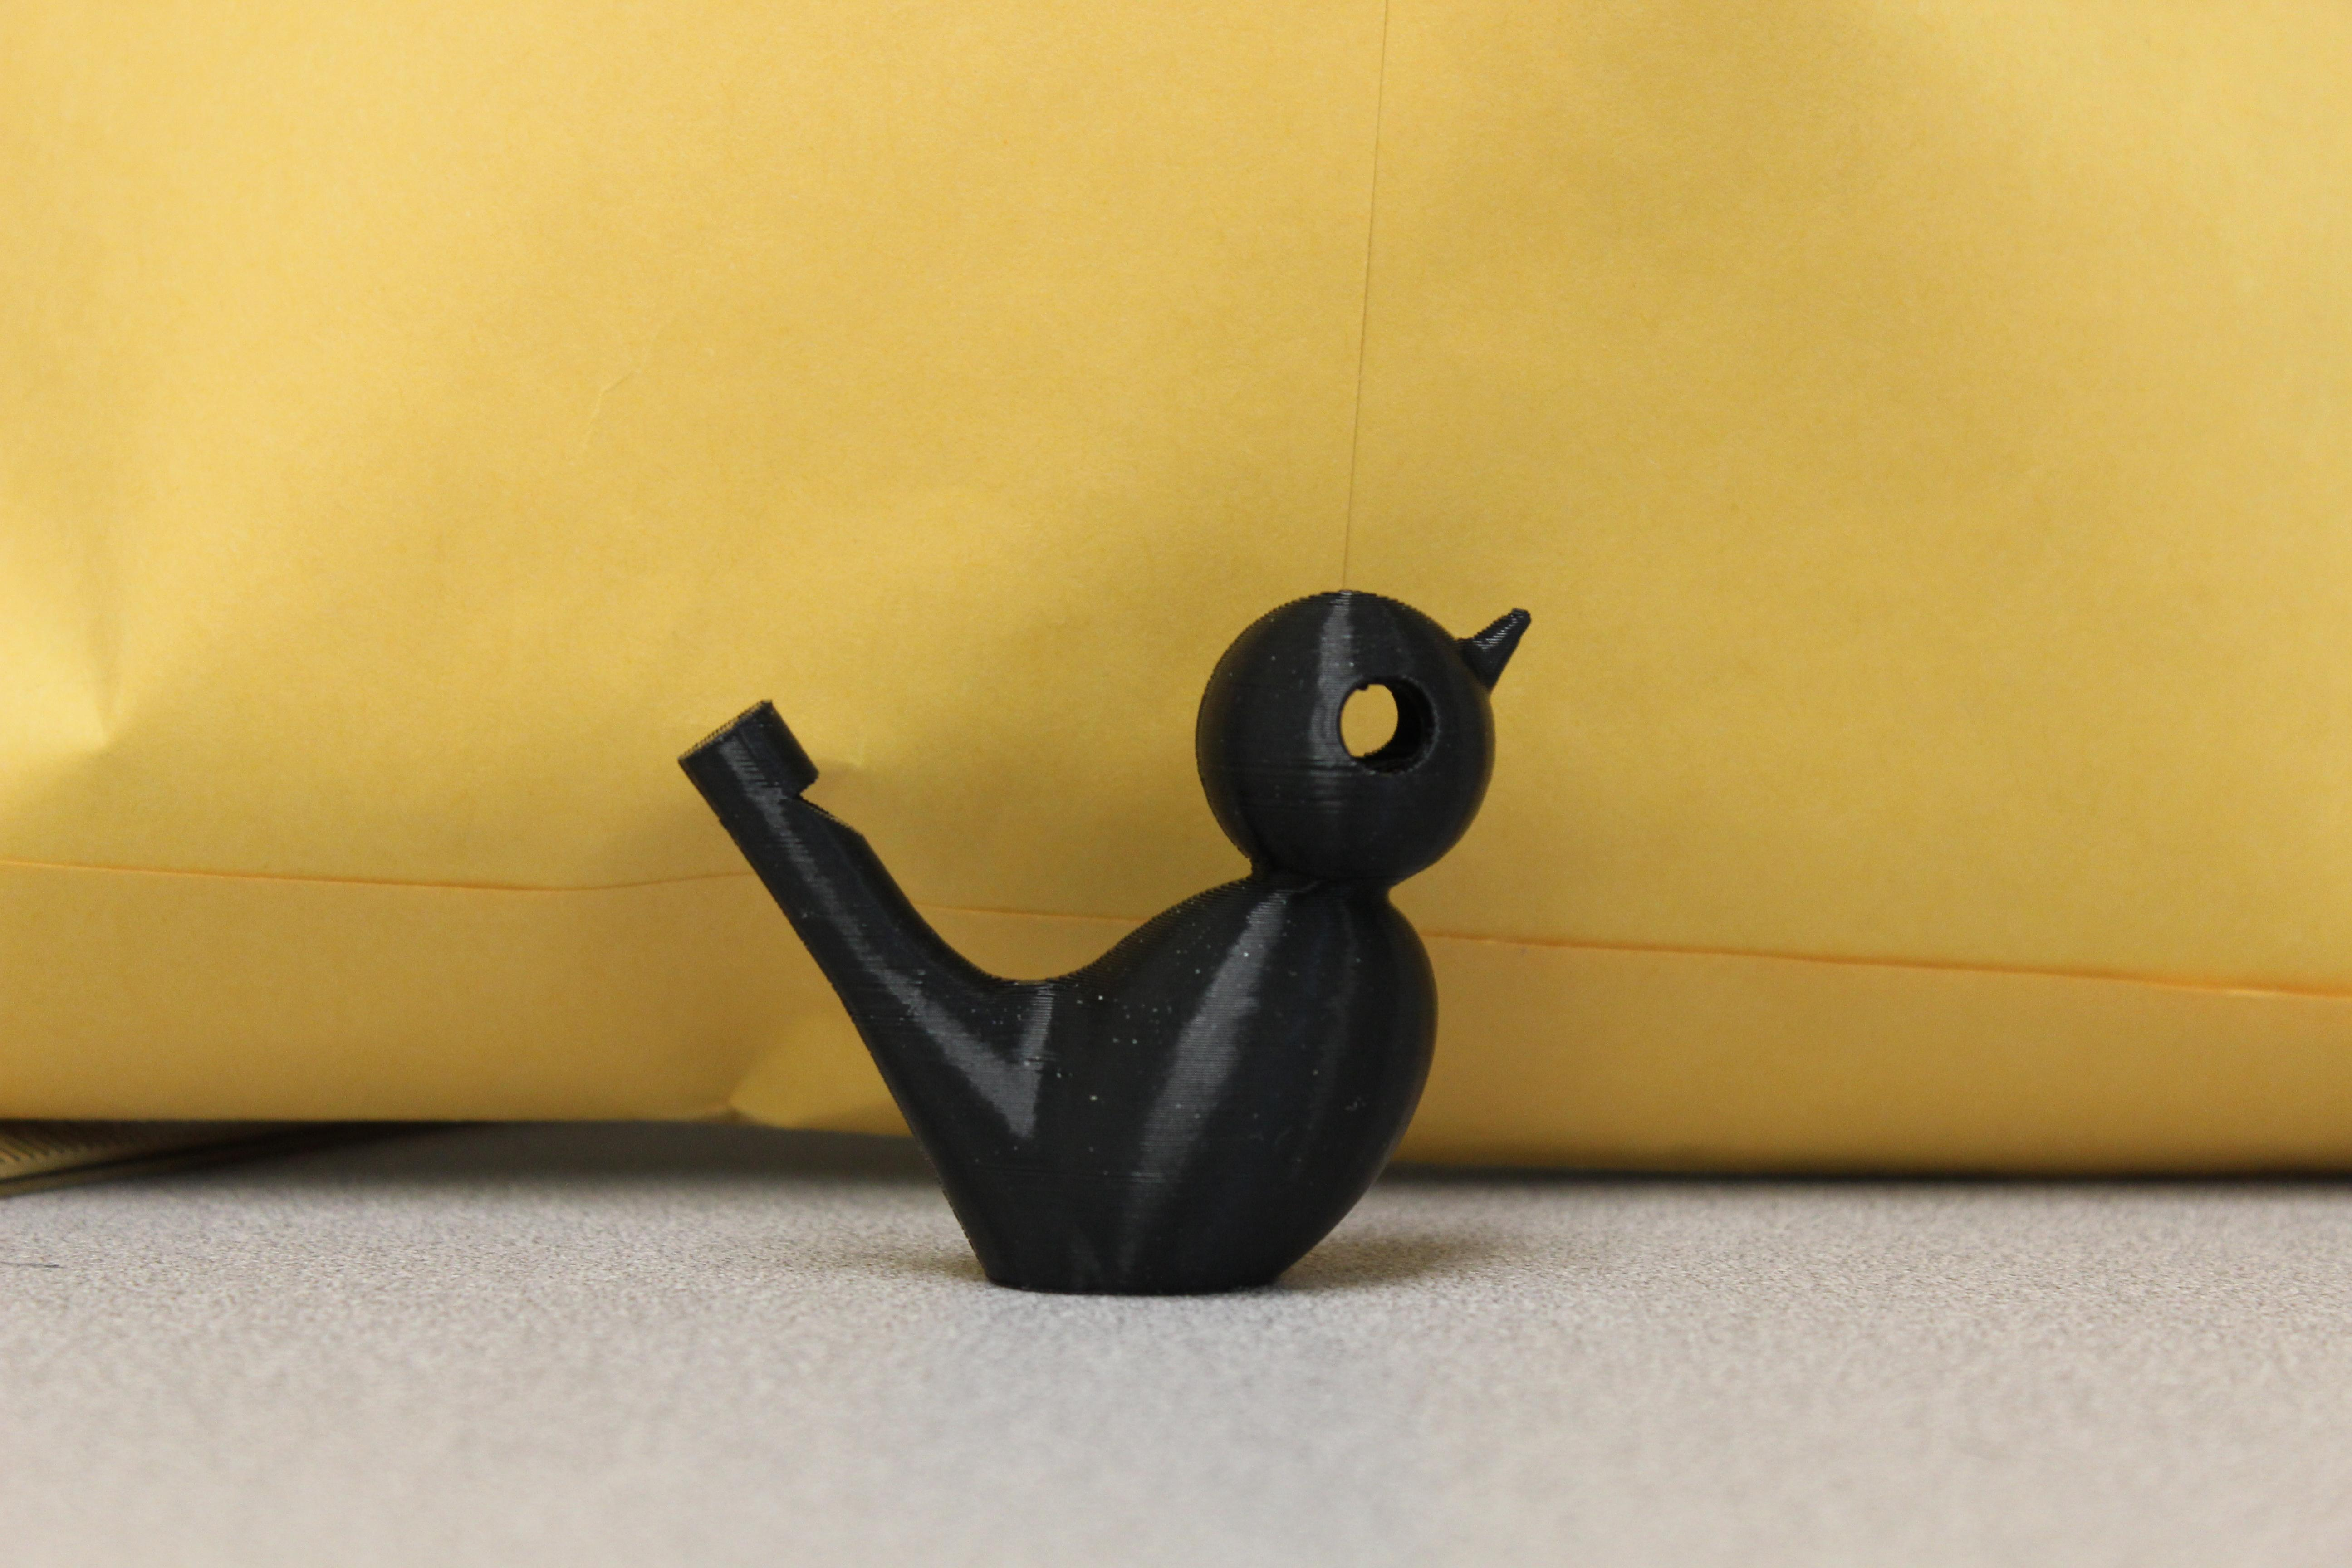birdCall: (618, 542, 1666, 1332)
